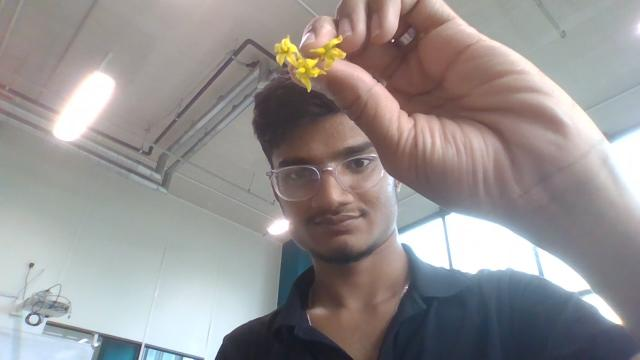Anthesis: (292, 57, 327, 91), (311, 36, 347, 67), (271, 35, 302, 70), (292, 58, 322, 91), (296, 73, 312, 93), (308, 46, 332, 57), (276, 52, 289, 66)
